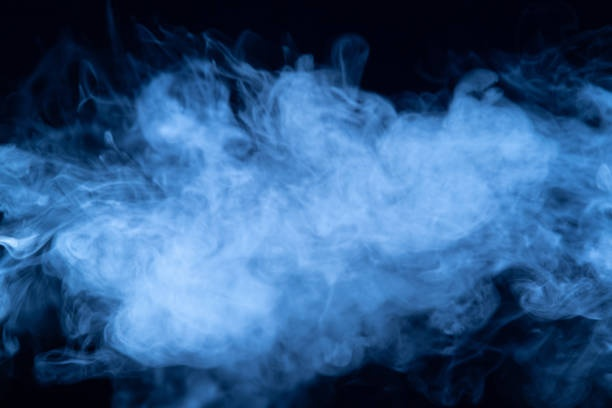smoke: (24, 63, 612, 332)
